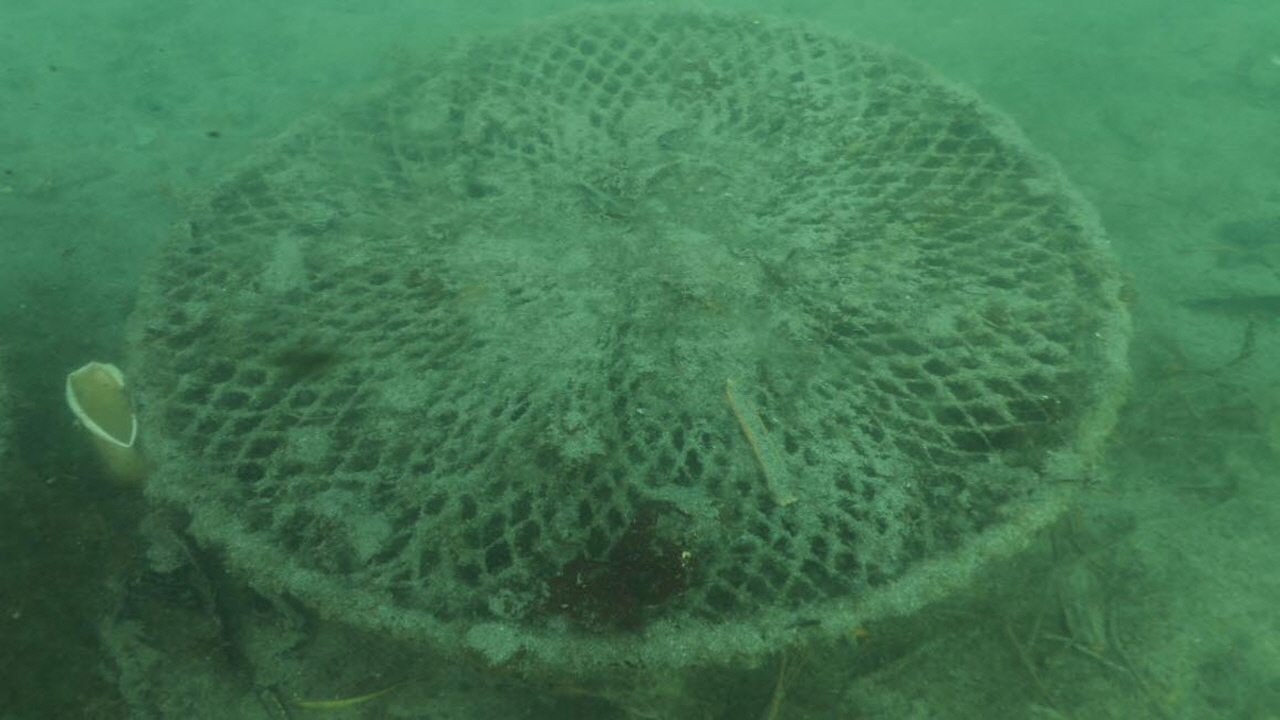circular fish trap: (129, 8, 1135, 673)
